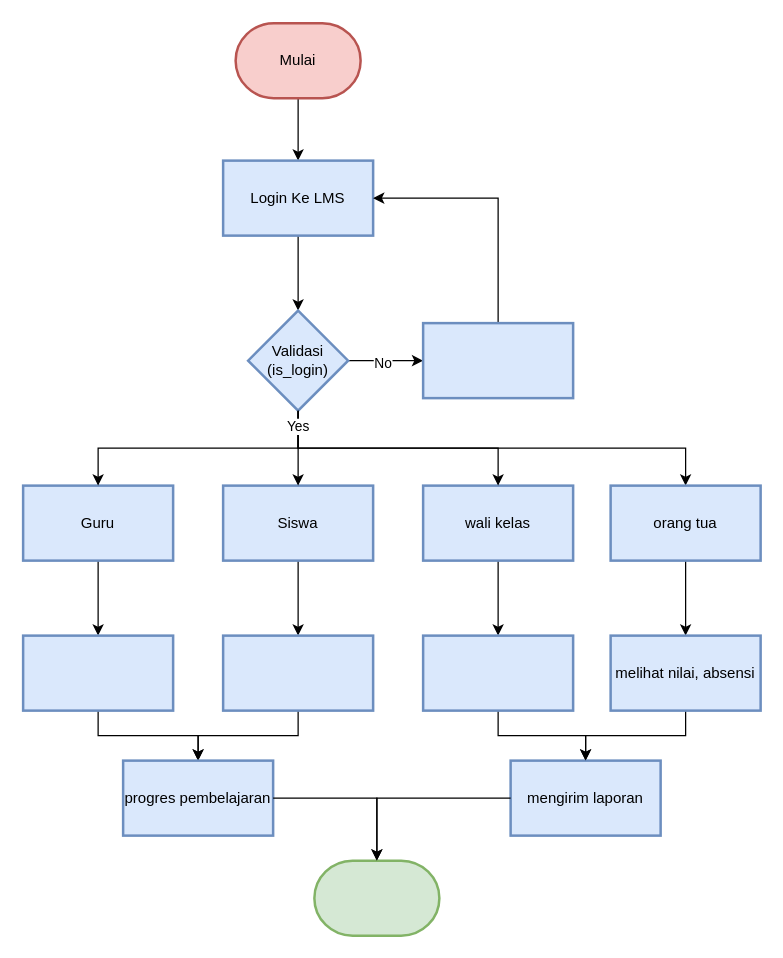
Some shapes in this 783 by 958 pixel diagram are drawn without their labels. Here are the shapes that lost their labels. From the top down, the box of each, then its label:
(421, 321, 574, 399): Register / Back to login
(21, 634, 174, 711): Kelola Materi, Nilai, ujian
(221, 634, 374, 711): Akses materi, tugas, nilai, ujian
(421, 634, 574, 711): Pantau Aktifitas
(312, 859, 440, 936): Selesai
